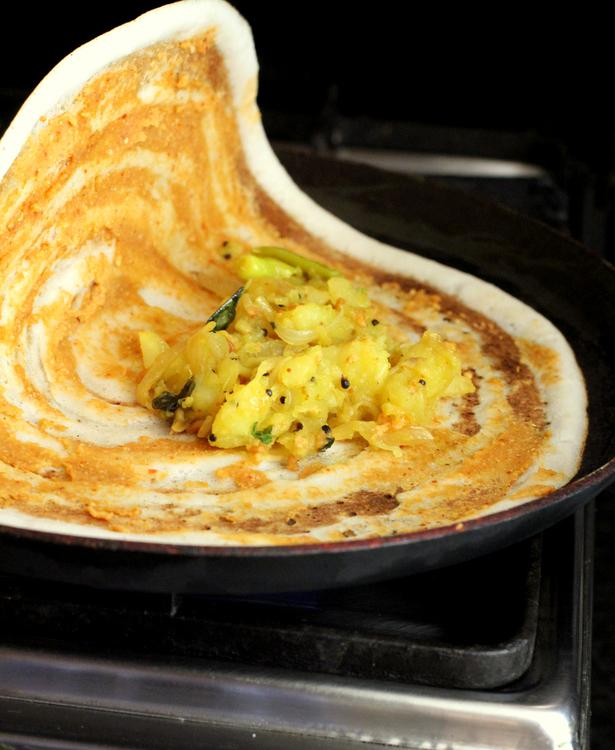dosa: (2, 1, 587, 547)
